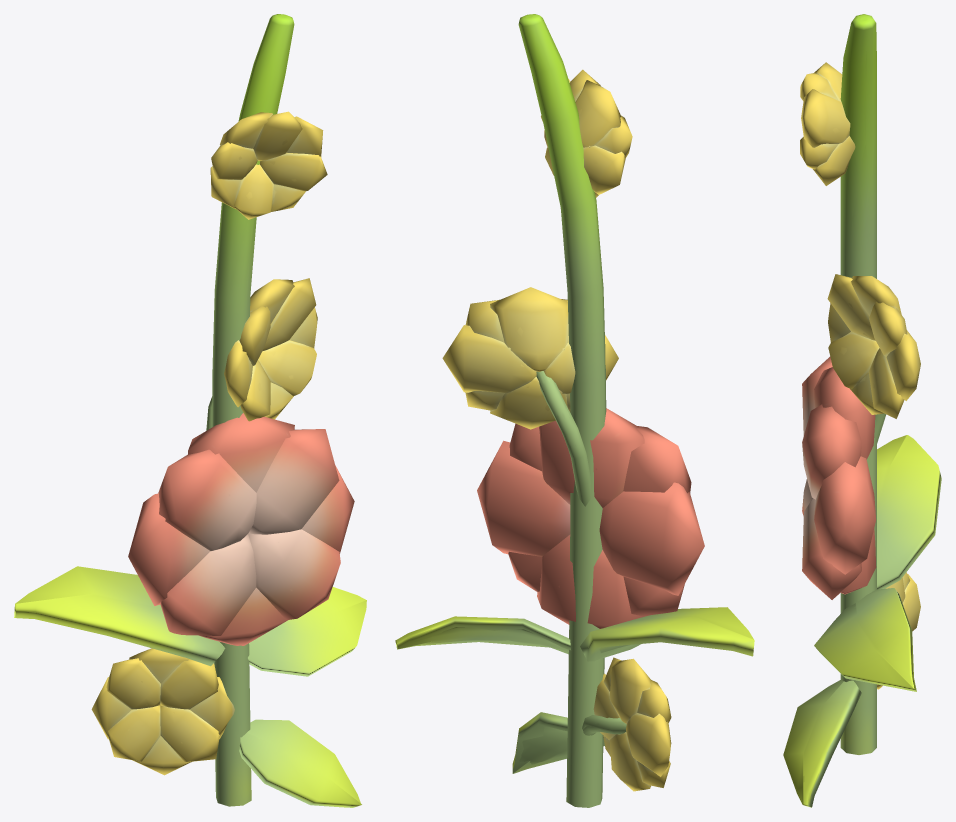
The model's file is Flower4_Textured.fbx.
The picture shows the model from 3 angles, left to right: view 1: azimuth 30°, elevation 25°; view 2: azimuth 150°, elevation 25°; view 3: azimuth 270°, elevation 25°; orthographic projection. The views are drawn at different scales.
Visible parts, largest first — view 1: Flower4_Textured; view 2: Flower4_Textured; view 3: Flower4_Textured.
Part boxes in pixels (x1,y1,x2,y2): Flower4_Textured: (14,14,366,807); Flower4_Textured: (395,14,754,807); Flower4_Textured: (783,14,941,807).
Bounding box in the file's own units: 42.45 × 89.67 × 16.74.
Materials: 3 (3 with a texture image).
